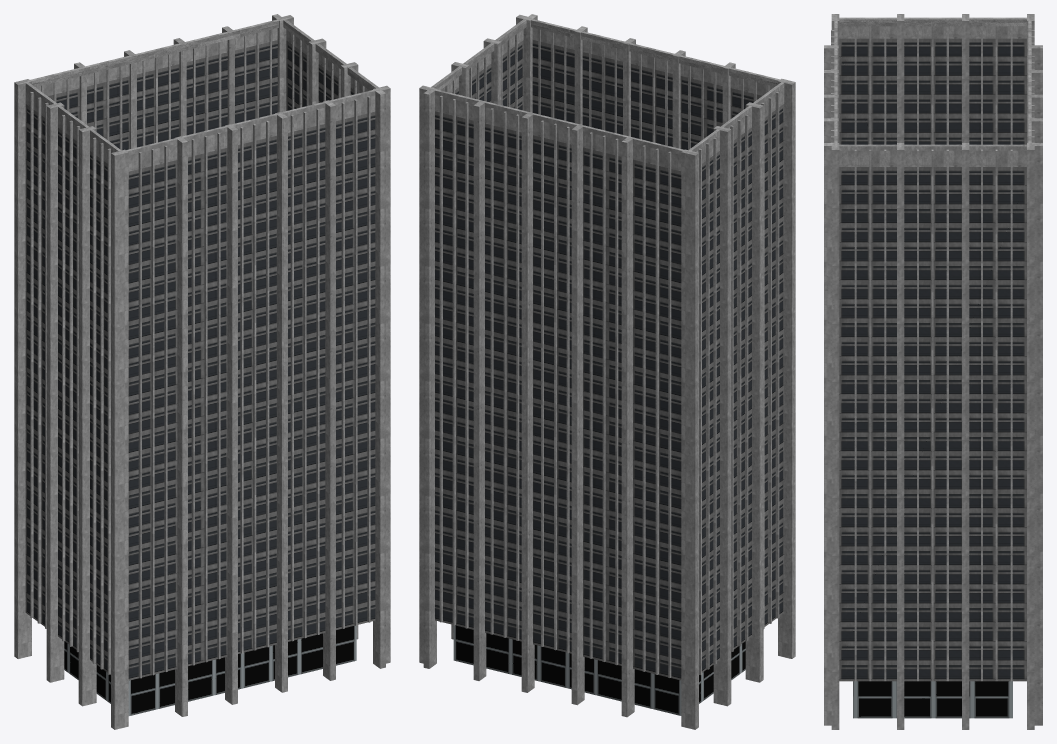
File: concrete_tower.glb
The picture shows the model from 3 angles, left to right: view 1: azimuth 30°, elevation 25°; view 2: azimuth 150°, elevation 25°; view 3: azimuth 270°, elevation 25°; orthographic projection.
Visible parts, largest first — view 1: concrete_tower; view 2: concrete_tower; view 3: concrete_tower.
Boxes of the visible parts, bbox=[...] form: concrete_tower: bbox=[14, 14, 390, 729]; concrete_tower: bbox=[419, 14, 795, 729]; concrete_tower: bbox=[824, 14, 1042, 729].
Bounding box in the file's own units: 43.08 × 85.63 × 29.28.
3 materials, 3 textured.
